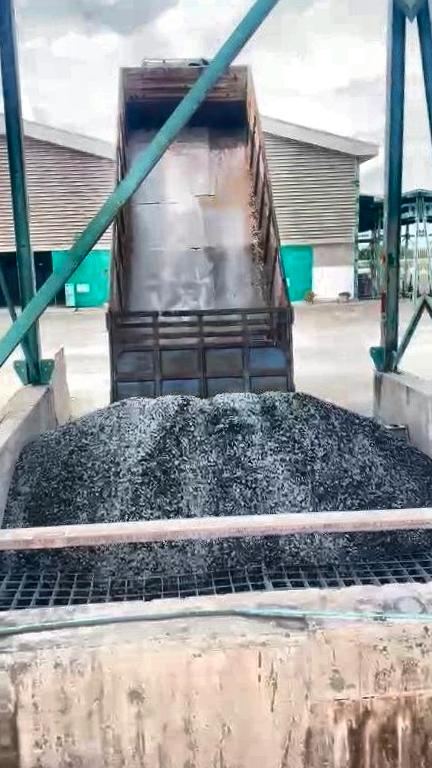gravel: (5, 394, 432, 525), (9, 532, 432, 575)
